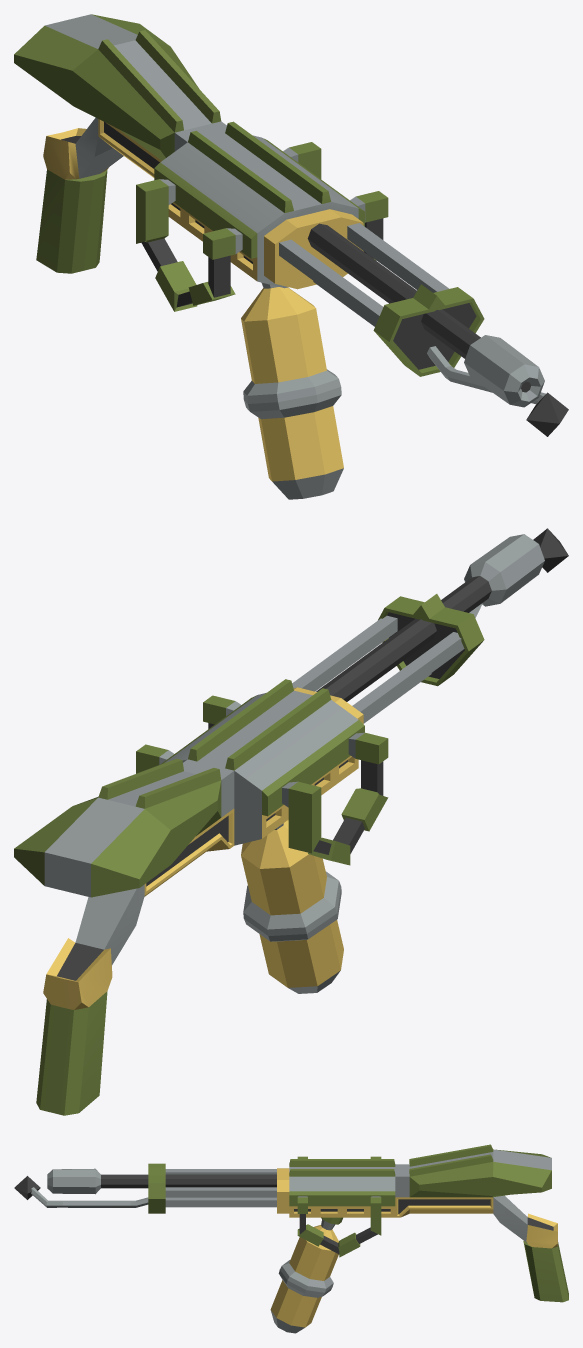
The model's file is Gun-3.fbx.
3 renders of one model, top to bottom at view 1: azimuth 30°, elevation 25°; view 2: azimuth 150°, elevation 25°; view 3: azimuth 270°, elevation 25°, orthographic. The views are drawn at different scales.
Parts seen in each view (by area): view 1: Gun_3; view 2: Gun_3; view 3: Gun_3.
Boxes of the visible parts, x1=… form: Gun_3: x1=14, y1=14, x2=568, y2=499; Gun_3: x1=14, y1=528, x2=568, y2=1115; Gun_3: x1=14, y1=1144, x2=568, y2=1333.
Bounding box in the file's own units: 96.25 × 173 × 481.
